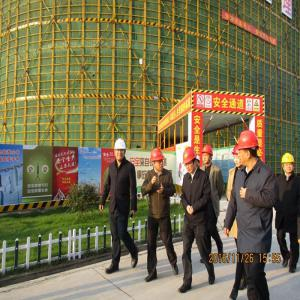red: (239, 129, 260, 166), (182, 147, 198, 175), (151, 146, 166, 173), (202, 146, 214, 165), (233, 146, 241, 169)
white: (114, 139, 127, 161)
yellow: (282, 154, 295, 175)
